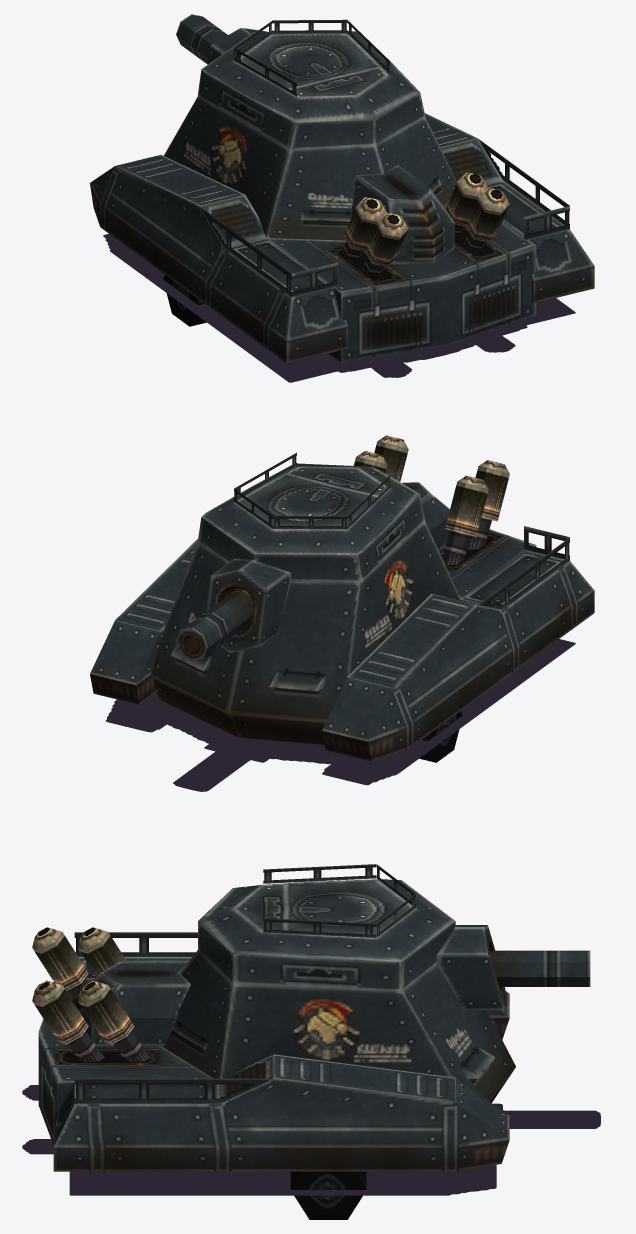
3 views of the same model, one above another, from view 1: azimuth 30°, elevation 25°; view 2: azimuth 150°, elevation 25°; view 3: azimuth 270°, elevation 25° (orthographic). The views are drawn at different scales.
Parts seen in each view (by area): view 1: mesh_Mesh_T14tank1_Layer1, mesh_Mesh_T14tank1_Layer4; view 2: mesh_Mesh_T14tank1_Layer1, mesh_Mesh_T14tank1_Layer4; view 3: mesh_Mesh_T14tank1_Layer1, mesh_Mesh_T14tank1_Layer4, mesh_Mesh_T14tank1_Layer2, mesh_Mesh_T14tank1_Layer3.
Part boxes in pixels (<box>): mesh_Mesh_T14tank1_Layer1: <box>90,14,594,363</box>; mesh_Mesh_T14tank1_Layer4: <box>103,234,575,382</box>; mesh_Mesh_T14tank1_Layer1: <box>90,435,594,761</box>; mesh_Mesh_T14tank1_Layer4: <box>106,639,575,791</box>; mesh_Mesh_T14tank1_Layer1: <box>32,864,590,1171</box>; mesh_Mesh_T14tank1_Layer4: <box>22,1085,600,1195</box>; mesh_Mesh_T14tank1_Layer2: <box>298,1171,358,1213</box>; mesh_Mesh_T14tank1_Layer3: <box>290,1171,366,1219</box>.
Size of the model in its own units: 5.76 by 4.02 by 8.64.
Materials: 3 (3 with a texture image).
